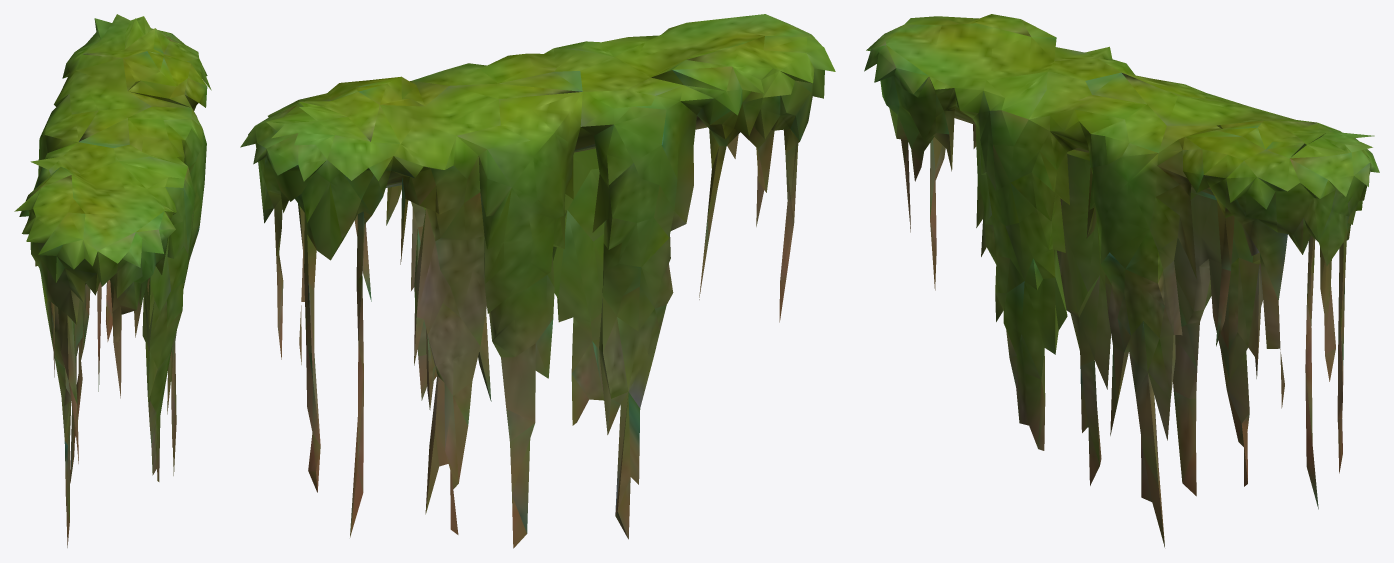
The model's file is musgo_colgante.glb.
3 views of the same model, side by side, from view 1: azimuth 30°, elevation 25°; view 2: azimuth 150°, elevation 25°; view 3: azimuth 270°, elevation 25° (orthographic). The views are drawn at different scales.
Visible parts, largest first — view 1: musgo_colgante_malla; view 2: musgo_colgante_malla; view 3: musgo_colgante_malla.
Part boxes in pixels (x1=…): musgo_colgante_malla: x1=14, y1=14, x2=211, y2=547; musgo_colgante_malla: x1=240, y1=14, x2=835, y2=548; musgo_colgante_malla: x1=864, y1=14, x2=1379, y2=547.
Bounding box in the file's own units: 0.1811 × 0.2165 × 0.226.
1 material, 1 textured.
